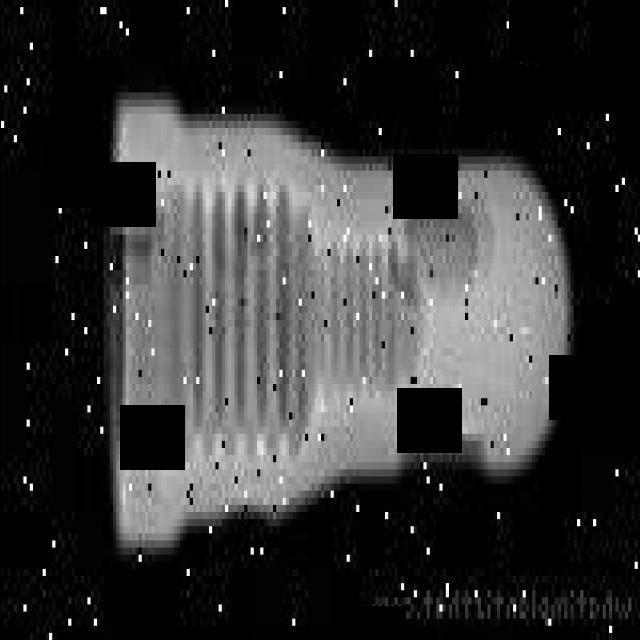Root canal obturation: (106, 85, 579, 562)
